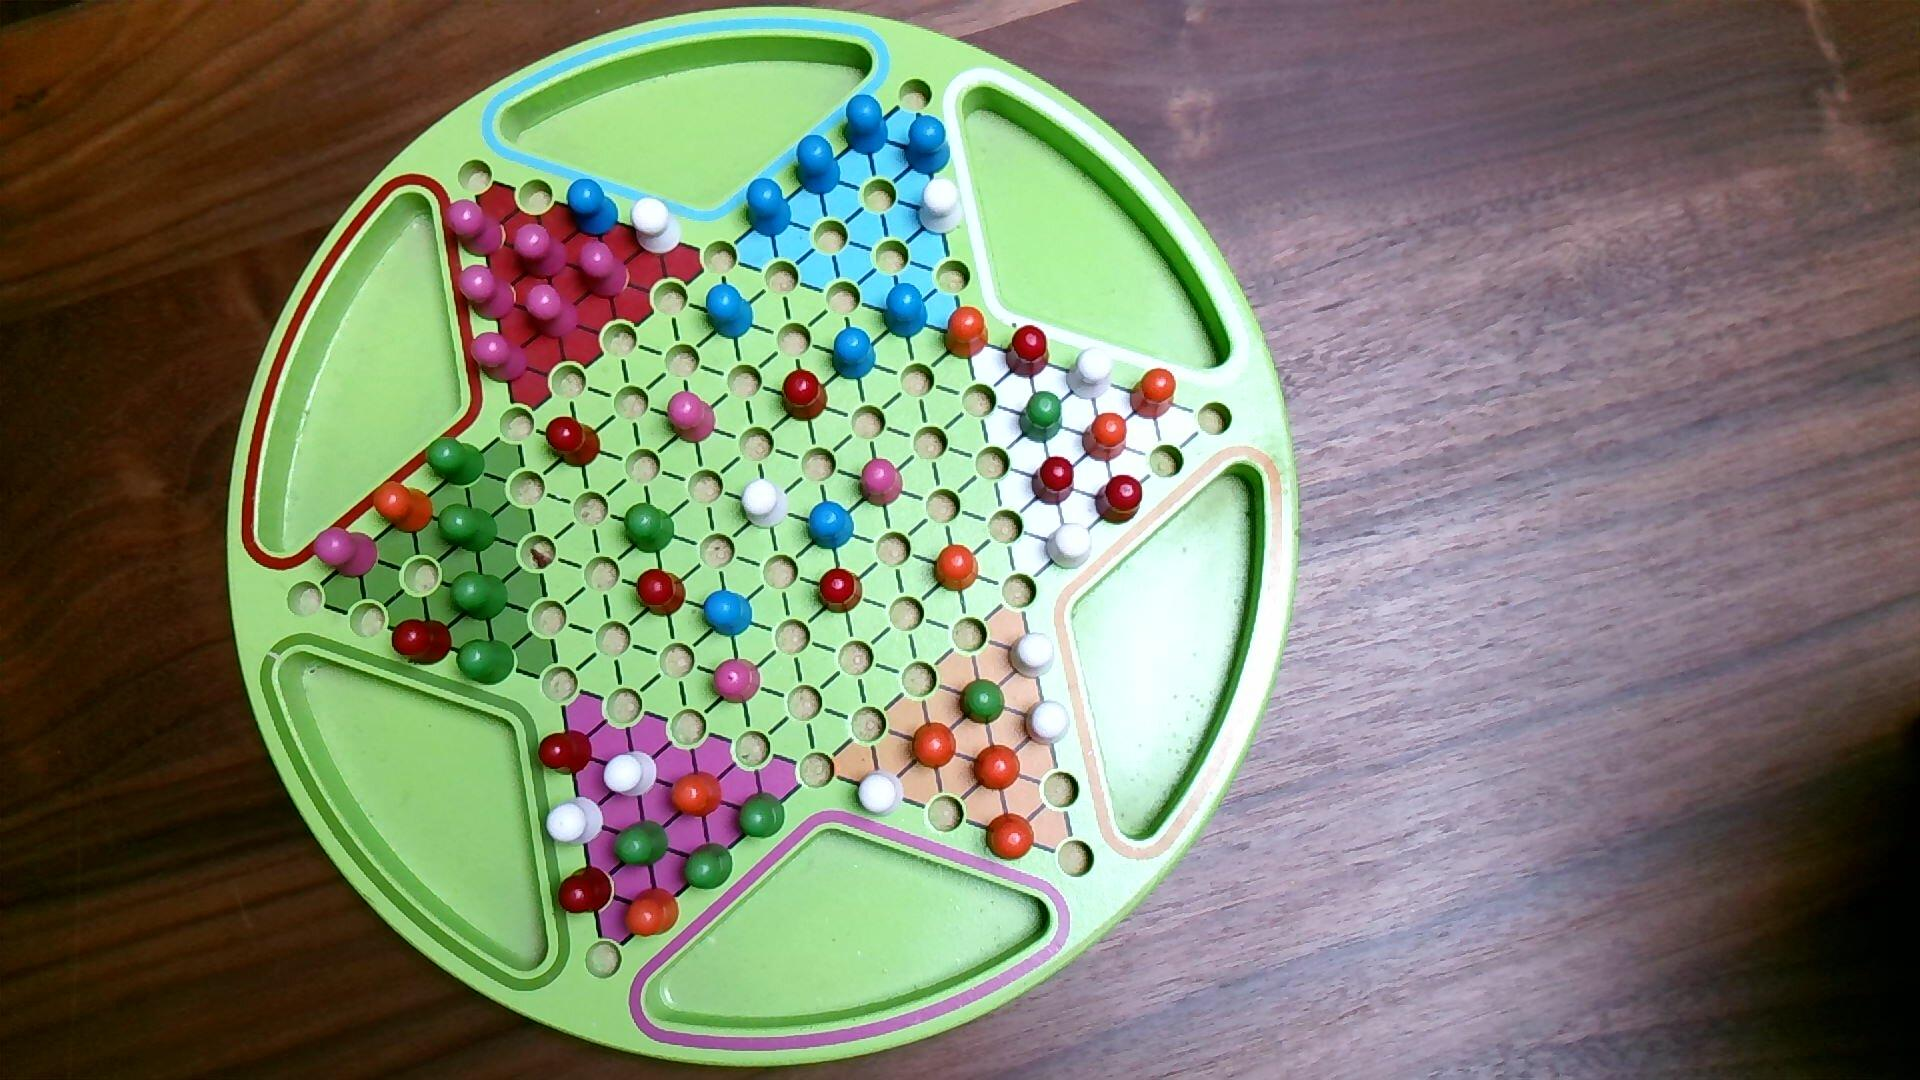B: (566, 178, 621, 239), (903, 113, 952, 179), (843, 94, 891, 158), (795, 132, 843, 196), (745, 177, 793, 240), (705, 284, 757, 342), (882, 282, 930, 342), (829, 326, 878, 382), (806, 500, 857, 553), (702, 589, 754, 640)
G: (436, 502, 500, 555), (448, 571, 510, 622), (425, 436, 487, 487), (456, 638, 518, 687), (612, 819, 670, 869), (622, 502, 676, 555), (682, 843, 735, 891), (1018, 392, 1065, 446), (737, 791, 787, 840), (959, 678, 1007, 727)
O: (371, 480, 435, 535), (622, 887, 680, 939), (669, 771, 724, 820), (1129, 367, 1178, 422), (943, 306, 992, 361), (984, 812, 1036, 862), (972, 744, 1023, 793), (932, 543, 981, 593), (1083, 413, 1129, 464), (910, 723, 957, 771)
R: (545, 415, 603, 469), (392, 618, 454, 669), (556, 865, 615, 916), (781, 367, 829, 425), (537, 729, 595, 777), (1095, 473, 1145, 527), (1005, 324, 1052, 381), (636, 568, 688, 618), (1031, 455, 1077, 508), (818, 568, 865, 616)
R2: (311, 526, 380, 582), (458, 264, 518, 324), (444, 199, 506, 258), (512, 222, 571, 282), (524, 284, 582, 342), (469, 331, 531, 385), (576, 240, 630, 301), (666, 390, 717, 444), (712, 657, 764, 705), (858, 458, 905, 509)
W: (630, 196, 683, 257), (545, 796, 607, 848), (916, 177, 965, 237), (738, 477, 793, 531), (1065, 345, 1116, 402), (603, 750, 659, 799), (855, 769, 906, 820), (1044, 522, 1095, 572), (1023, 699, 1072, 748), (1007, 632, 1056, 680)
